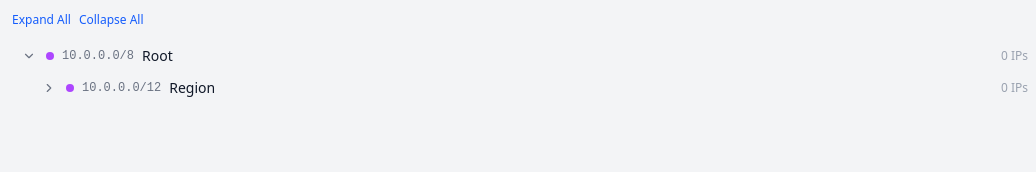
Scenario: PoolTree global expand controls › Expand All reveals every descendant
Step 1. Click the button "Expand All" → (41, 20), box [12,12,71,28]
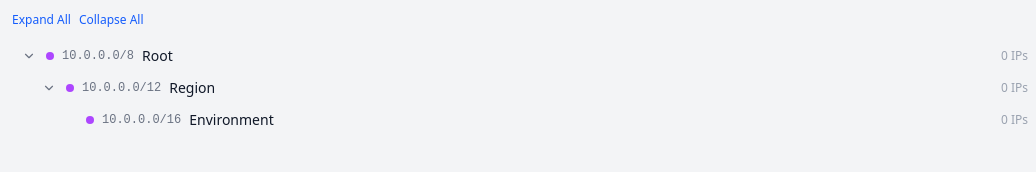
Expected: the text "Region" is shown, [169,78,215,98]
Result: the text "Environment" is shown at [189,110,274,130]
